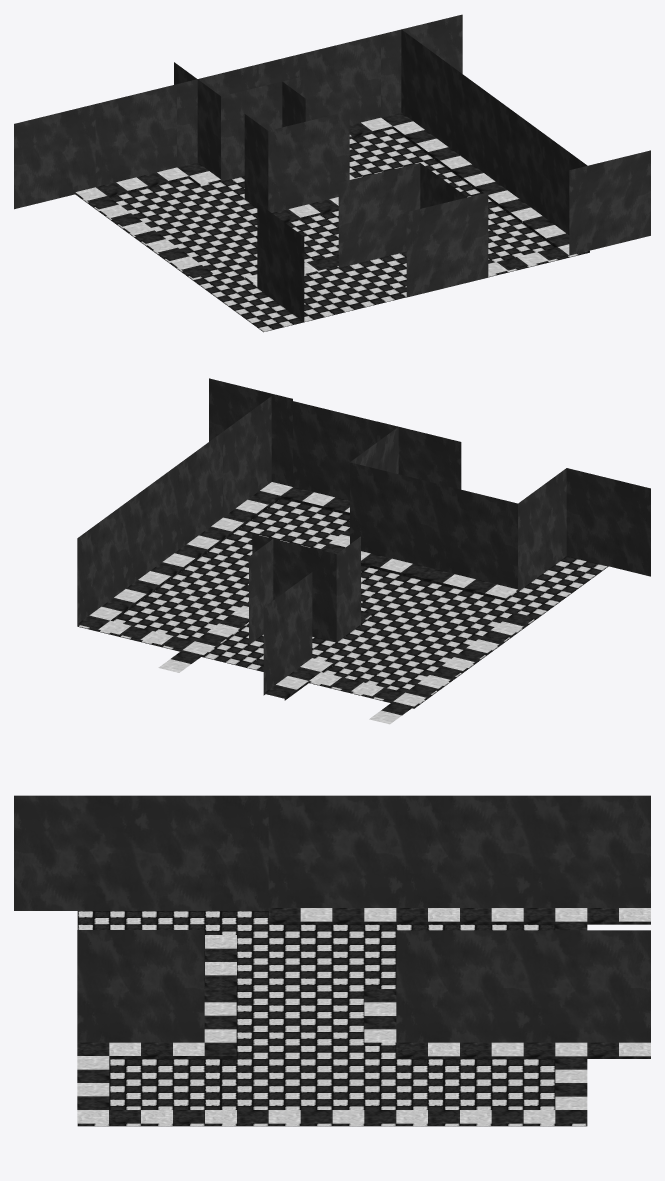
File: City_Streets_01.dae
3 views of the same model, one above another, from view 1: azimuth 30°, elevation 25°; view 2: azimuth 150°, elevation 25°; view 3: azimuth 270°, elevation 25° (orthographic). The views are drawn at different scales.
Parts seen in each view (by area): view 1: pPlane71, pPlane72; view 2: pPlane71, pPlane72; view 3: pPlane71, pPlane72.
Boxes of the visible parts, x1=… form: pPlane71: x1=14, y1=14, x2=650, y2=321; pPlane72: x1=75, y1=128, x2=589, y2=332; pPlane71: x1=77, y1=378, x2=650, y2=724; pPlane72: x1=77, y1=489, x2=608, y2=708; pPlane71: x1=14, y1=795, x2=650, y2=1123; pPlane72: x1=77, y1=911, x2=587, y2=1126.
Bounding box in the file's own units: 44 × 8.2 × 40.
